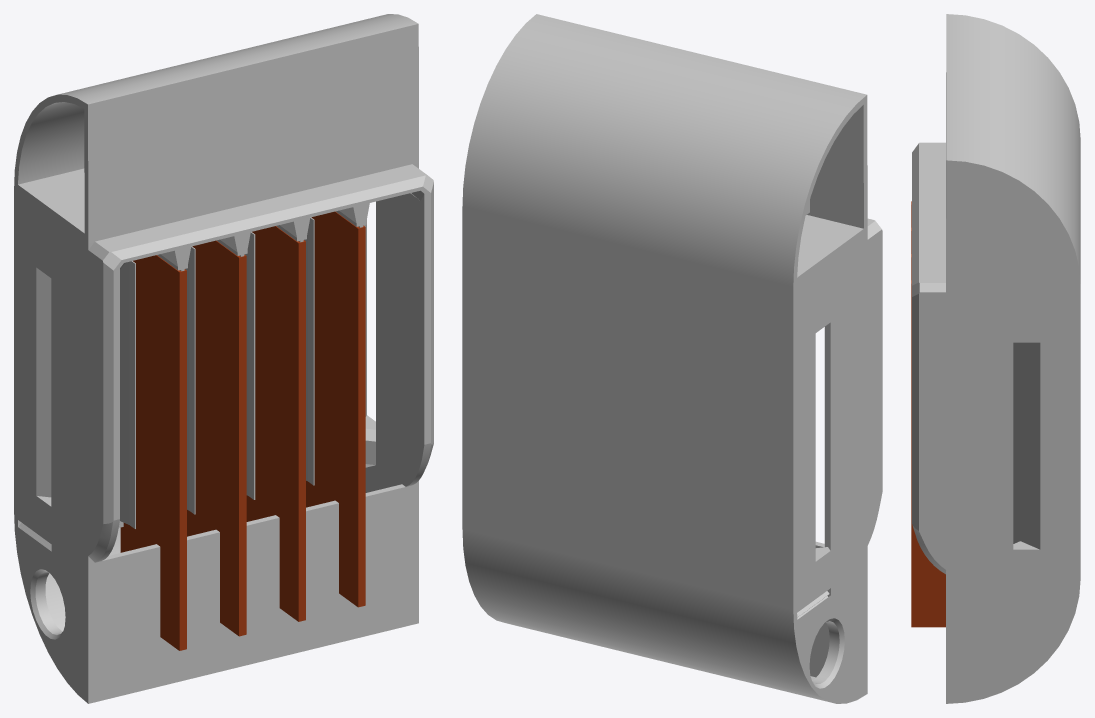
The picture shows the model from 3 angles, left to right: view 1: azimuth 30°, elevation 25°; view 2: azimuth 150°, elevation 25°; view 3: azimuth 270°, elevation 25°; orthographic projection. The views are drawn at different scales.
Visible parts, largest first — view 1: 0901203改 (組)).2.mesh, 0901203改 (組)).2.mesh.1; view 2: 0901203改 (組)).2.mesh; view 3: 0901203改 (組)).2.mesh, 0901203改 (組)).2.mesh.1.
Part boxes in pixels (box(x1,y1,x2,y2)): 0901203改 (組)).2.mesh: box(14, 14, 433, 703); 0901203改 (組)).2.mesh.1: box(120, 211, 365, 650); 0901203改 (組)).2.mesh: box(462, 14, 882, 703); 0901203改 (組)).2.mesh: box(912, 14, 1080, 703); 0901203改 (組)).2.mesh.1: box(911, 201, 945, 627).
Size of the model in its own units: 41.42 by 71.72 by 20.25.
